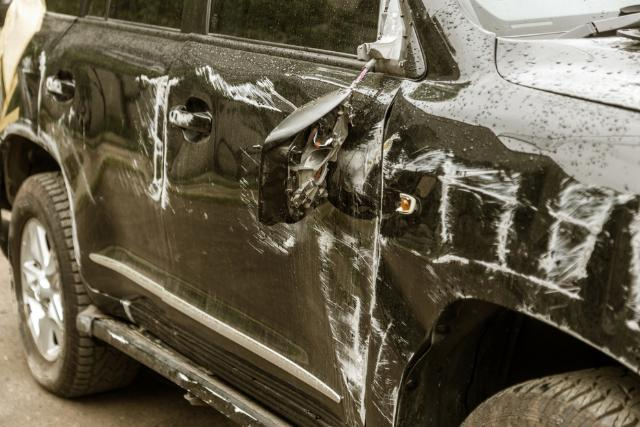Door: (148, 31, 373, 427), (25, 15, 148, 353)
Fender: (374, 87, 640, 427)
